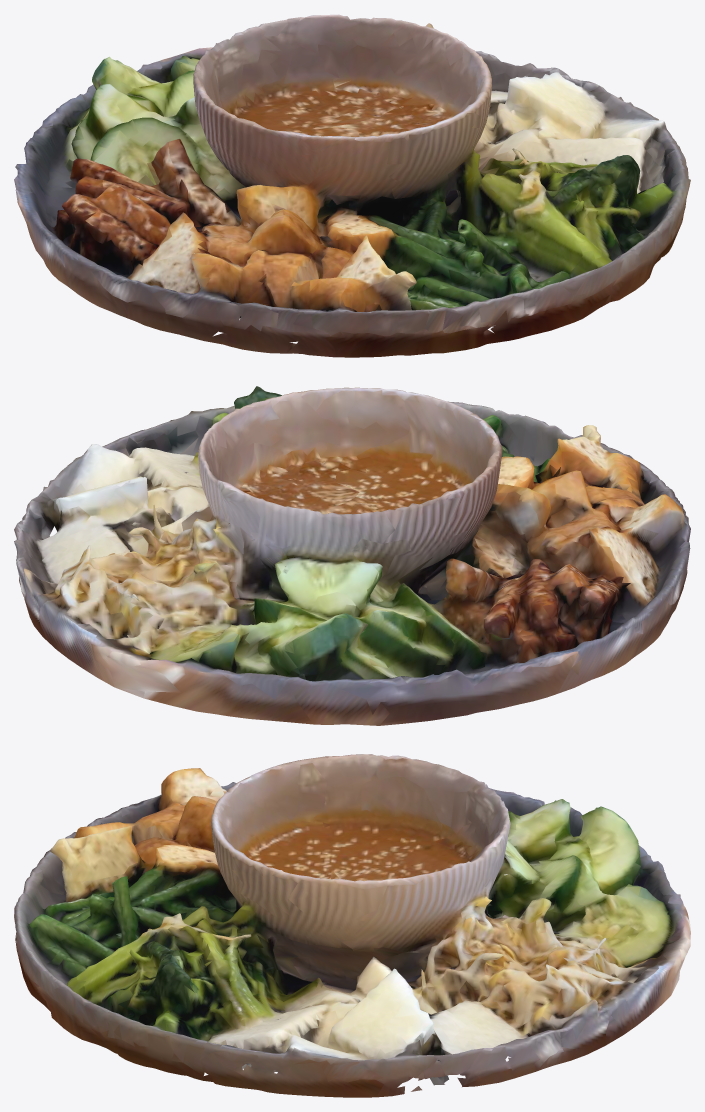
Rendered from GadoGado.glb.
The picture shows the model from 3 angles, top to bottom: view 1: azimuth 30°, elevation 25°; view 2: azimuth 150°, elevation 25°; view 3: azimuth 270°, elevation 25°; orthographic projection.
Parts seen in each view (by area): view 1: mesh_main_0; view 2: mesh_main_0; view 3: mesh_main_0.
Part boxes in pixels (bbox=[...]): mesh_main_0: bbox=[14, 14, 690, 357]; mesh_main_0: bbox=[14, 386, 690, 725]; mesh_main_0: bbox=[14, 754, 690, 1097].
Bounding box in the file's own units: 0.2672 × 0.0631 × 0.2714.
Materials: 1 (1 with a texture image).
